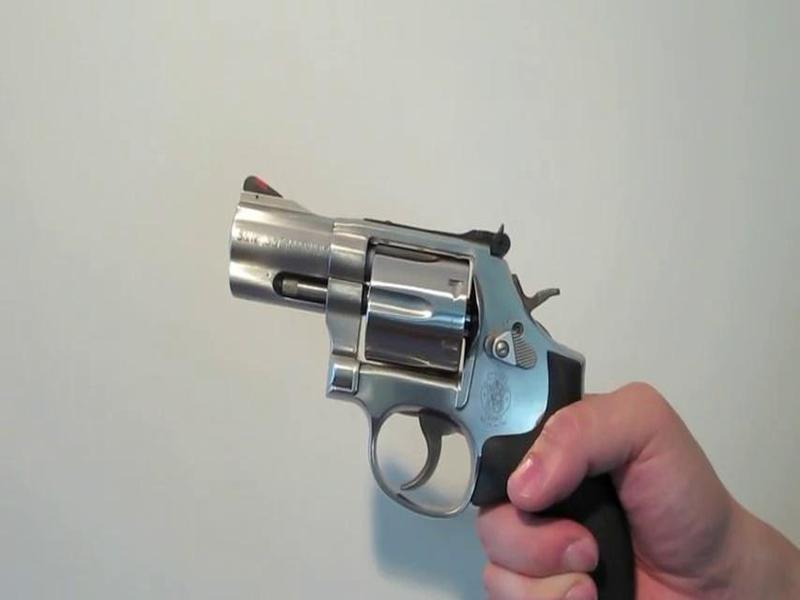Revolver: (217, 167, 648, 600)
